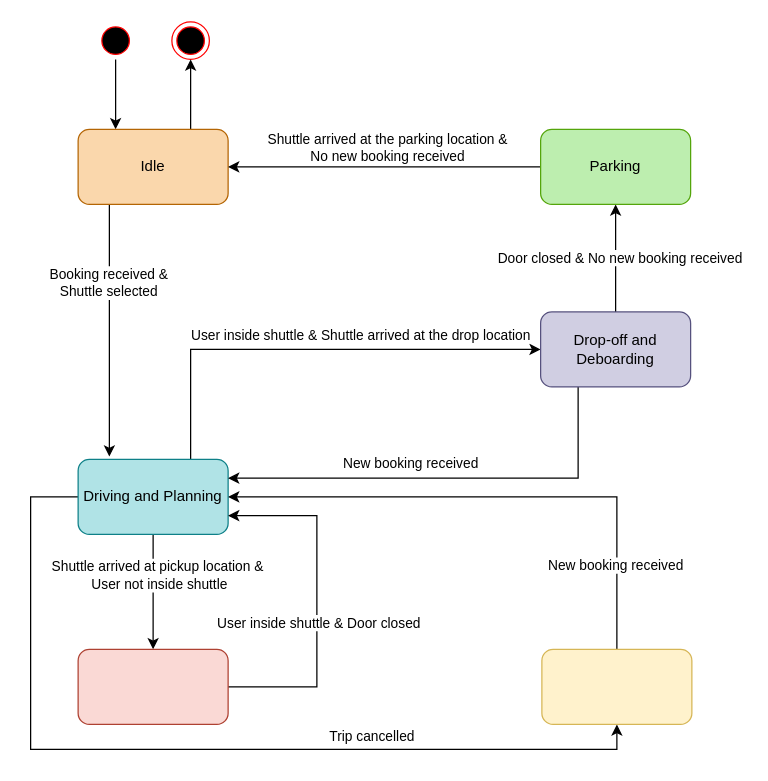
The diagram is 768 pixels wide and 781 high, and some of its shapes have lost their labels. The centre of each missing label's shape, as x and y in pixels:
Boarding: point (152, 686)
Trip Cancellation: point (616, 686)
